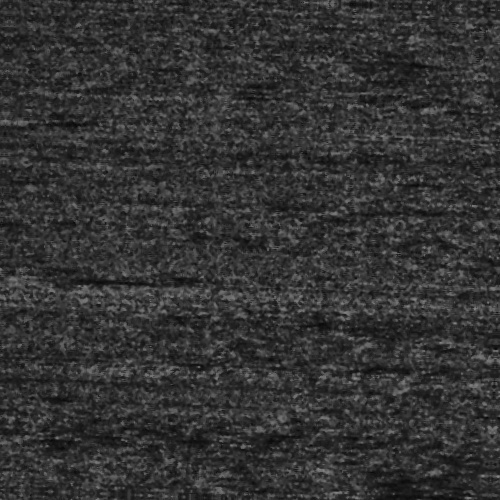object: (18, 281, 81, 286), (7, 124, 60, 129), (485, 131, 500, 138)
shadow: (49, 281, 162, 286), (34, 124, 79, 129)
